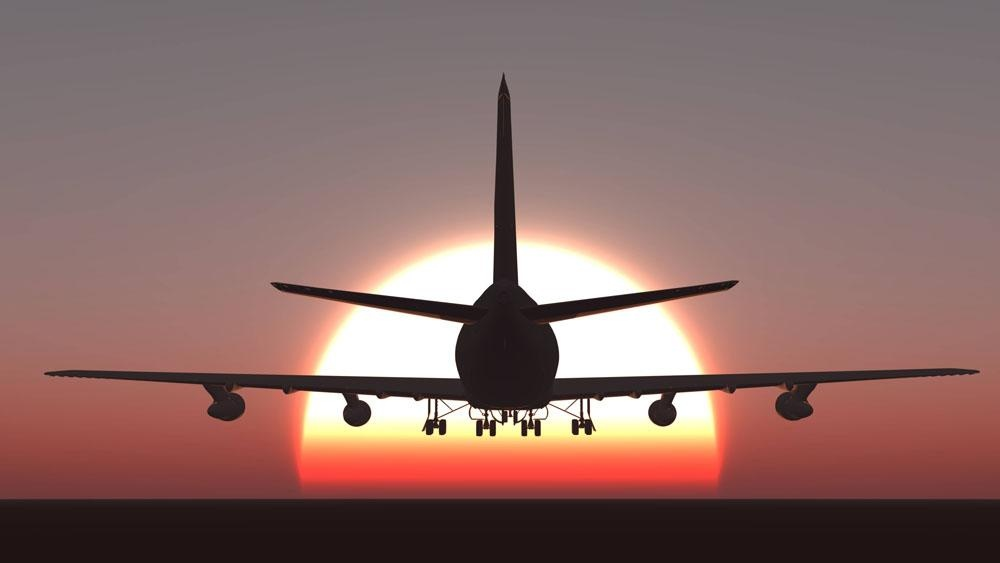airplane: (38, 71, 985, 440)
